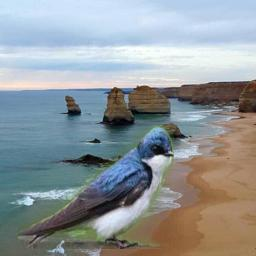Swallow: (18, 125, 174, 249)
